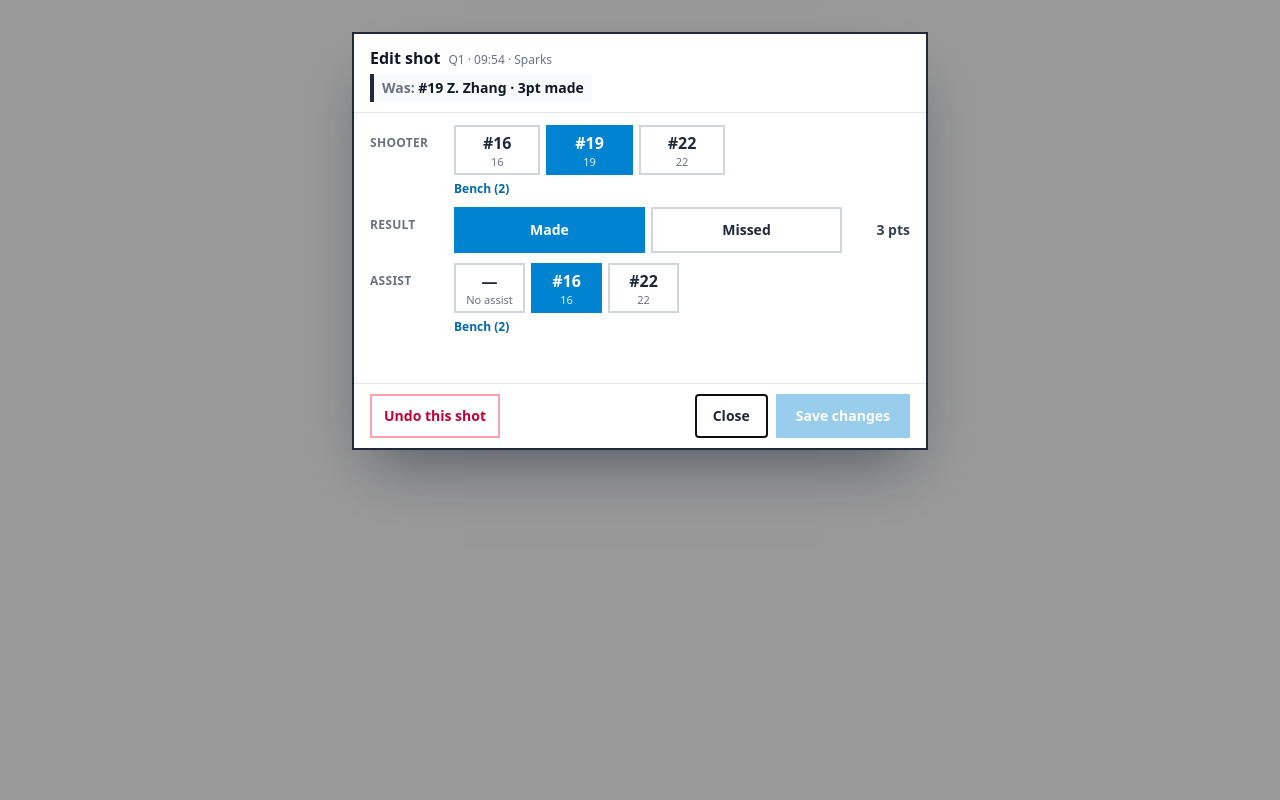
Test: LogEditorModal › shows the five on the court, with the rest of the roster behind "Bench"
The width and height of the screenshot is (1280, 800).
Click the button "Bench (2)" below "Shooter" at (482, 189), box [454, 181, 509, 197]
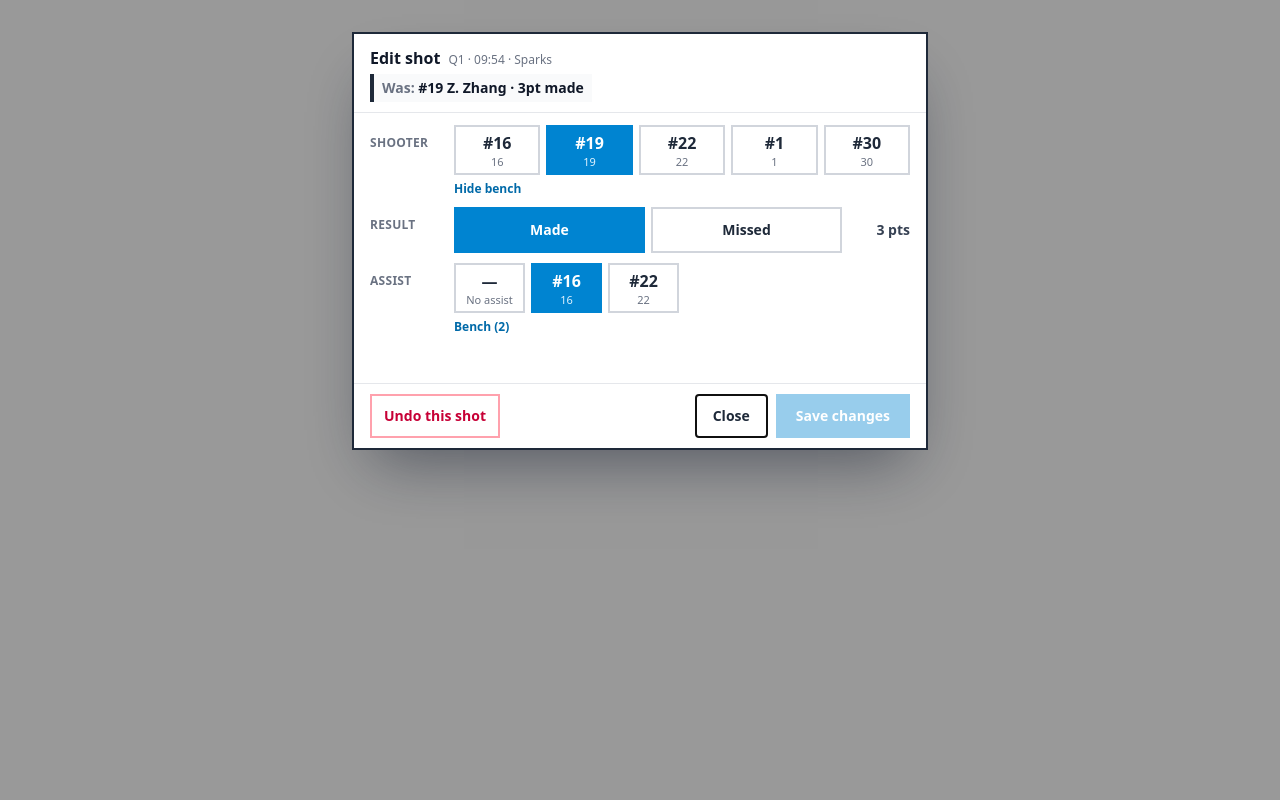
Now the radio button named "#30 Player 30" is shown, box [824, 125, 910, 175]
Now the radio button named "#1 Player 1" is shown, box [731, 125, 818, 175]
